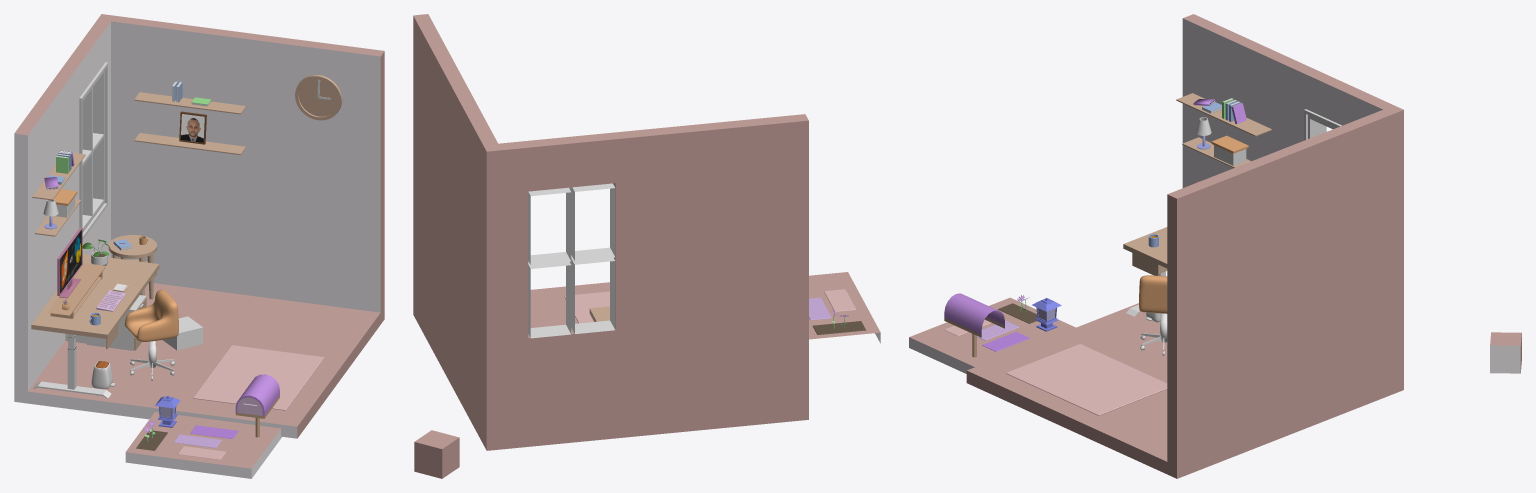
File: workspaceaward.glb
3 renders of one model, left to right at view 1: azimuth 30°, elevation 25°; view 2: azimuth 150°, elevation 25°; view 3: azimuth 270°, elevation 25°, orthographic. The views are drawn at different scales.
Visible parts, largest first — view 1: Body, Desks, Floor Items, Mini Floor, Shelves, Table Stuff, Chair, Clock, Mailbox, Computer, Cube, Lamp (+4 smaller); view 2: Body, Mini Floor, Cube.001, Floor Items, Dirt, FloorThird; view 3: Body, Floor Items, Mini Floor, Shelves, Mailbox, Desks, Cube.001, Chair, Lamp.
Boxes of the visible parts, left/top/right/bottom form: Body: left=14, top=14, right=384, bottom=438; Desks: left=31, top=235, right=159, bottom=398; Floor Items: left=87, top=295, right=324, bottom=410; Mini Floor: left=125, top=412, right=281, bottom=478; Shelves: left=32, top=81, right=246, bottom=236; Table Stuff: left=48, top=236, right=147, bottom=325; Chair: left=124, top=289, right=178, bottom=341; Clock: left=295, top=75, right=342, bottom=120; Mailbox: left=235, top=374, right=279, bottom=437; Computer: left=57, top=227, right=82, bottom=298; Cube: left=163, top=316, right=203, bottom=350; Lamp: left=155, top=396, right=180, bottom=427; Body: left=413, top=14, right=808, bottom=450; Mini Floor: left=809, top=272, right=880, bottom=343; Cube.001: left=414, top=430, right=459, bottom=478; Floor Items: left=564, top=291, right=609, bottom=323; Dirt: left=812, top=321, right=865, bottom=334; FloorThird: left=824, top=289, right=856, bottom=311; Body: left=966, top=14, right=1403, bottom=478; Floor Items: left=1006, top=312, right=1167, bottom=415; Mini Floor: left=909, top=297, right=1075, bottom=373; Shelves: left=1176, top=93, right=1271, bottom=167; Mailbox: left=944, top=293, right=1004, bottom=357; Desks: left=1123, top=227, right=1167, bottom=316; Cube.001: left=1490, top=332, right=1521, bottom=373; Chair: left=1139, top=275, right=1167, bottom=313; Lamp: left=1032, top=298, right=1061, bottom=331.
Size of the model in its own units: 27.58 by 19.65 by 38.64.
Materials: 36 (2 with a texture image).
